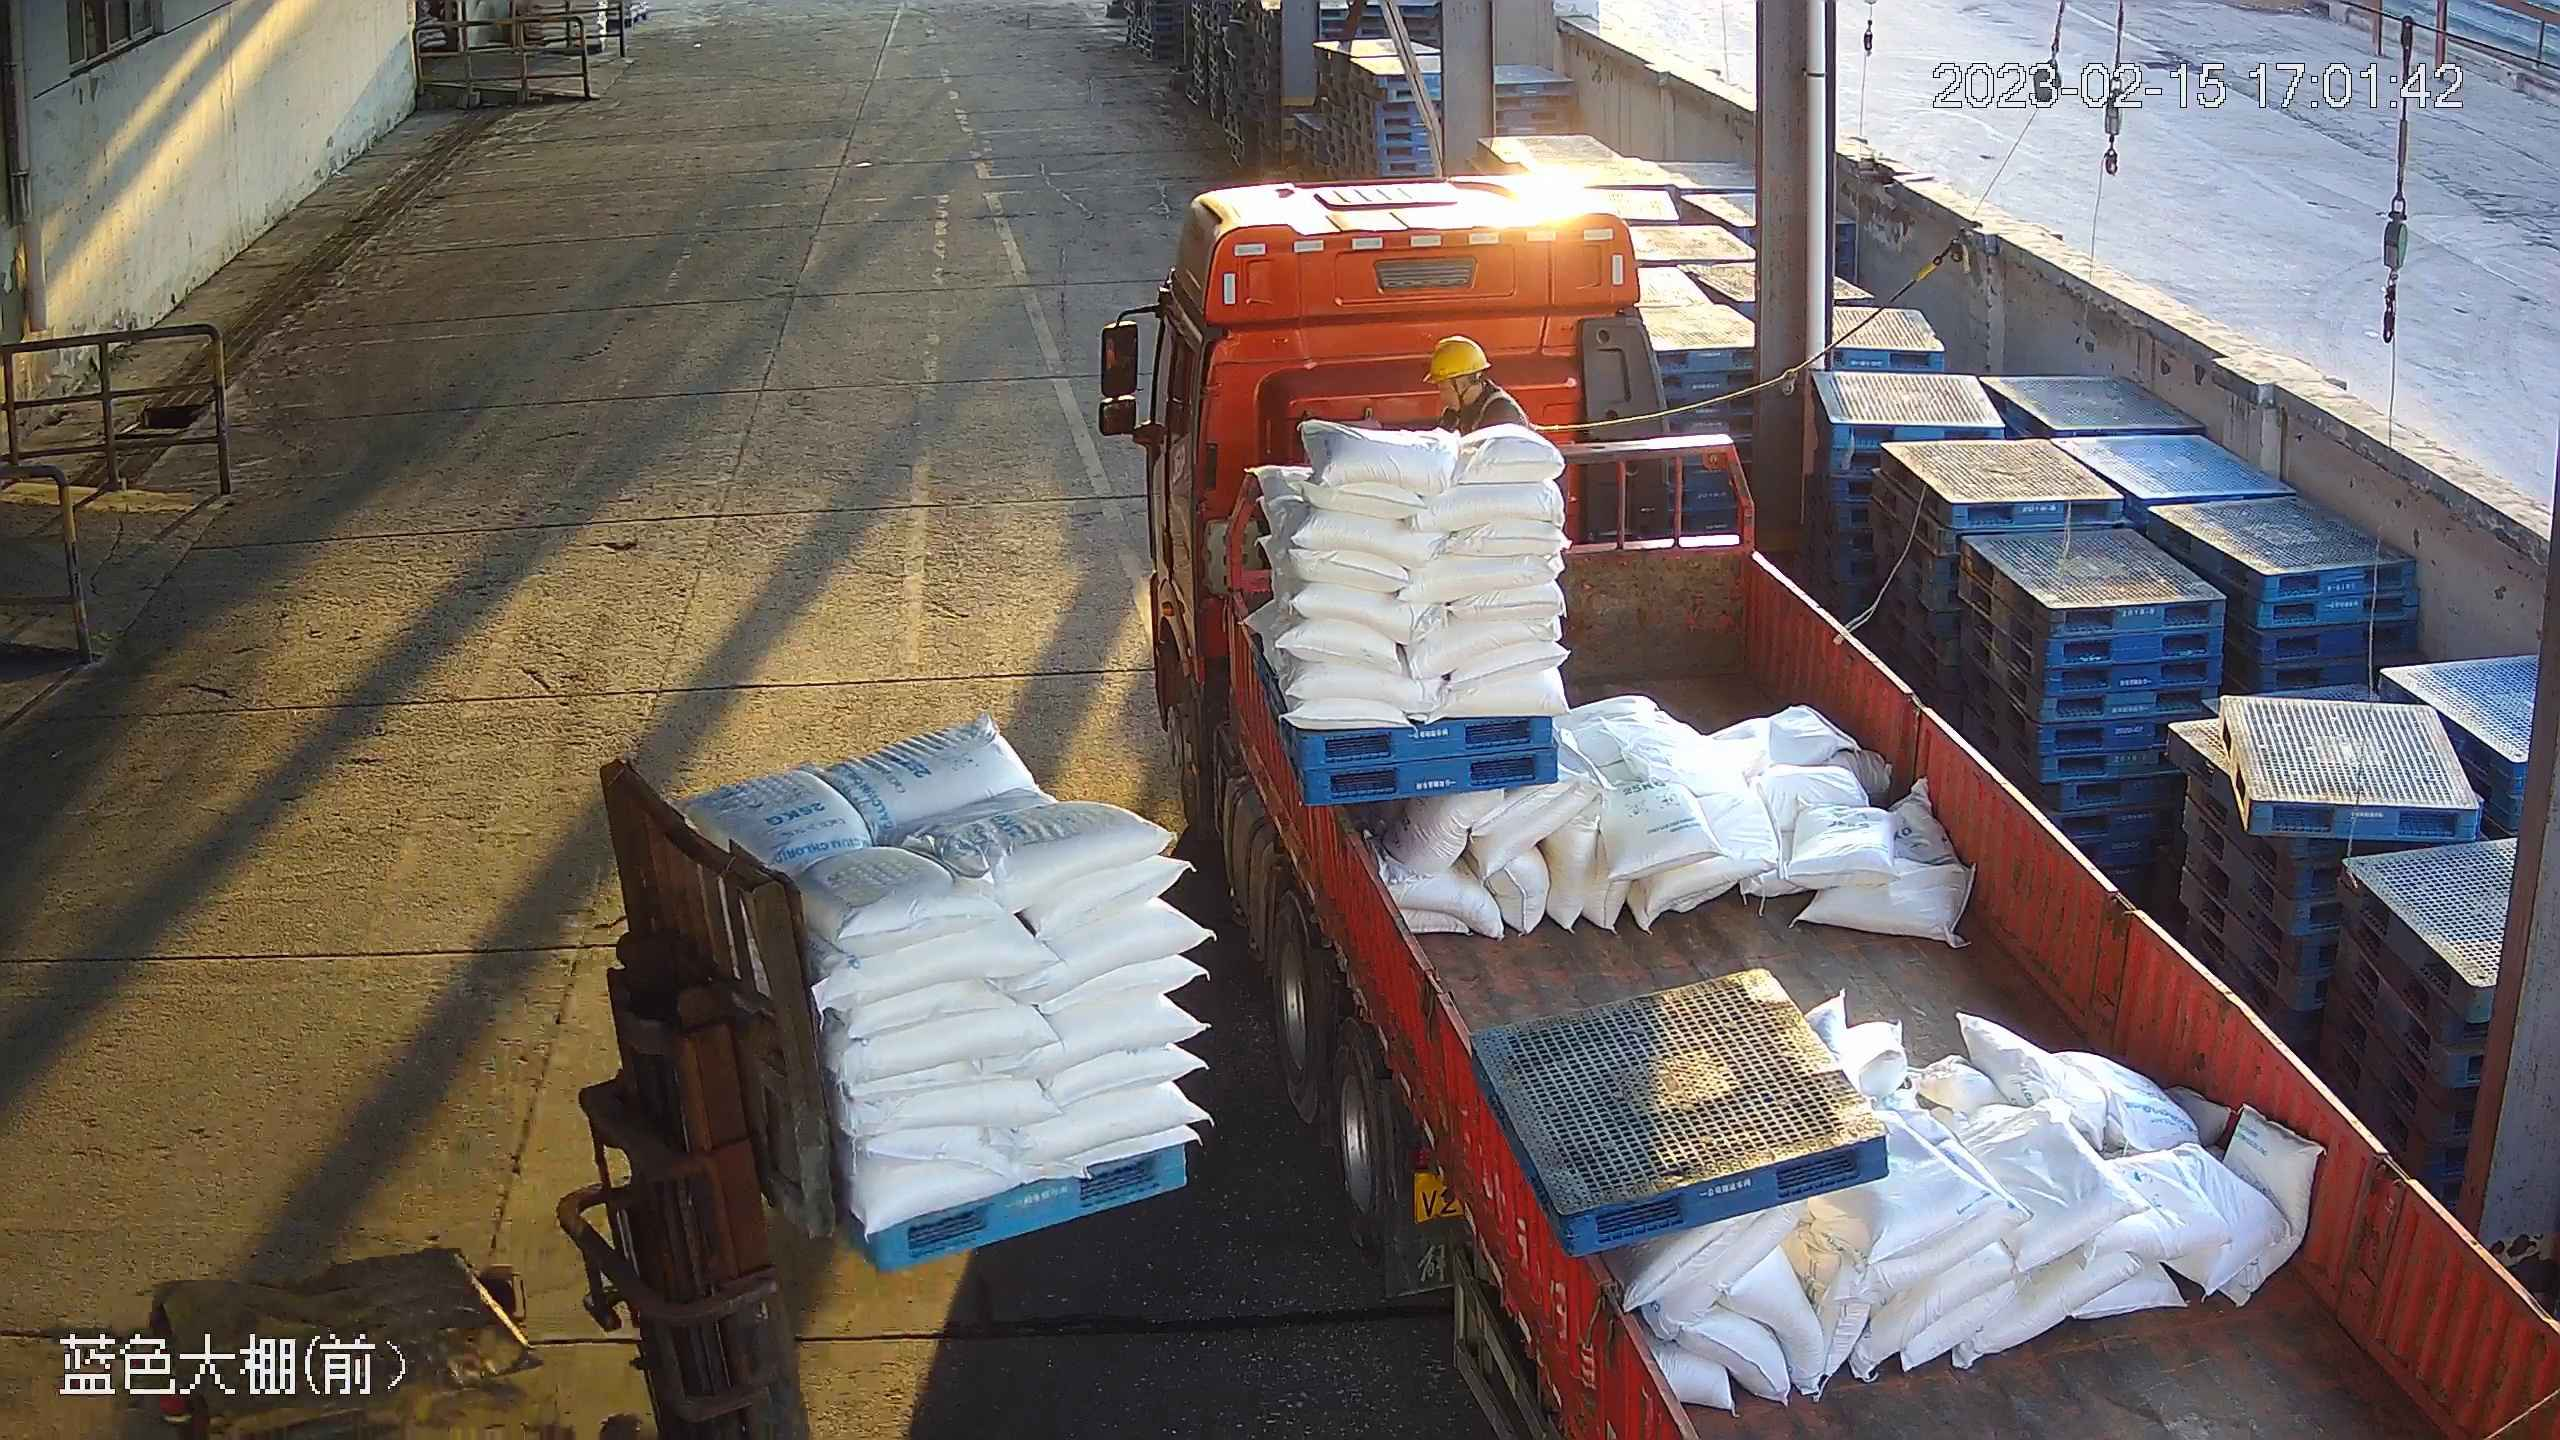belt: (1473, 385, 1558, 434)
helmet: (1422, 334, 1493, 383)
truck: (1097, 171, 2560, 1440)
